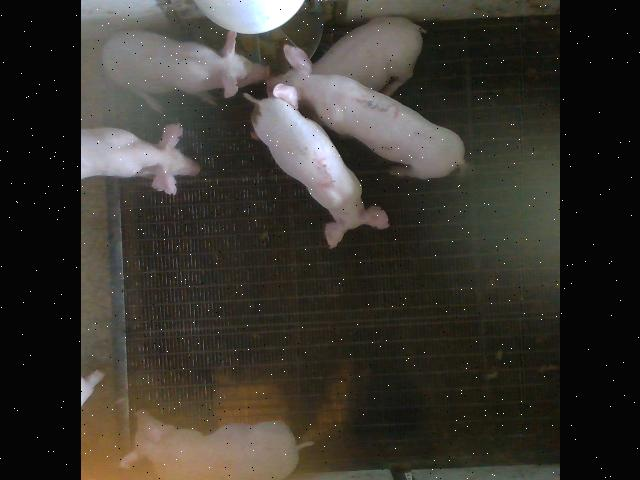pig-3: (273, 45, 464, 178)
pig-4: (119, 410, 312, 480)
pig-5: (246, 95, 388, 248)
